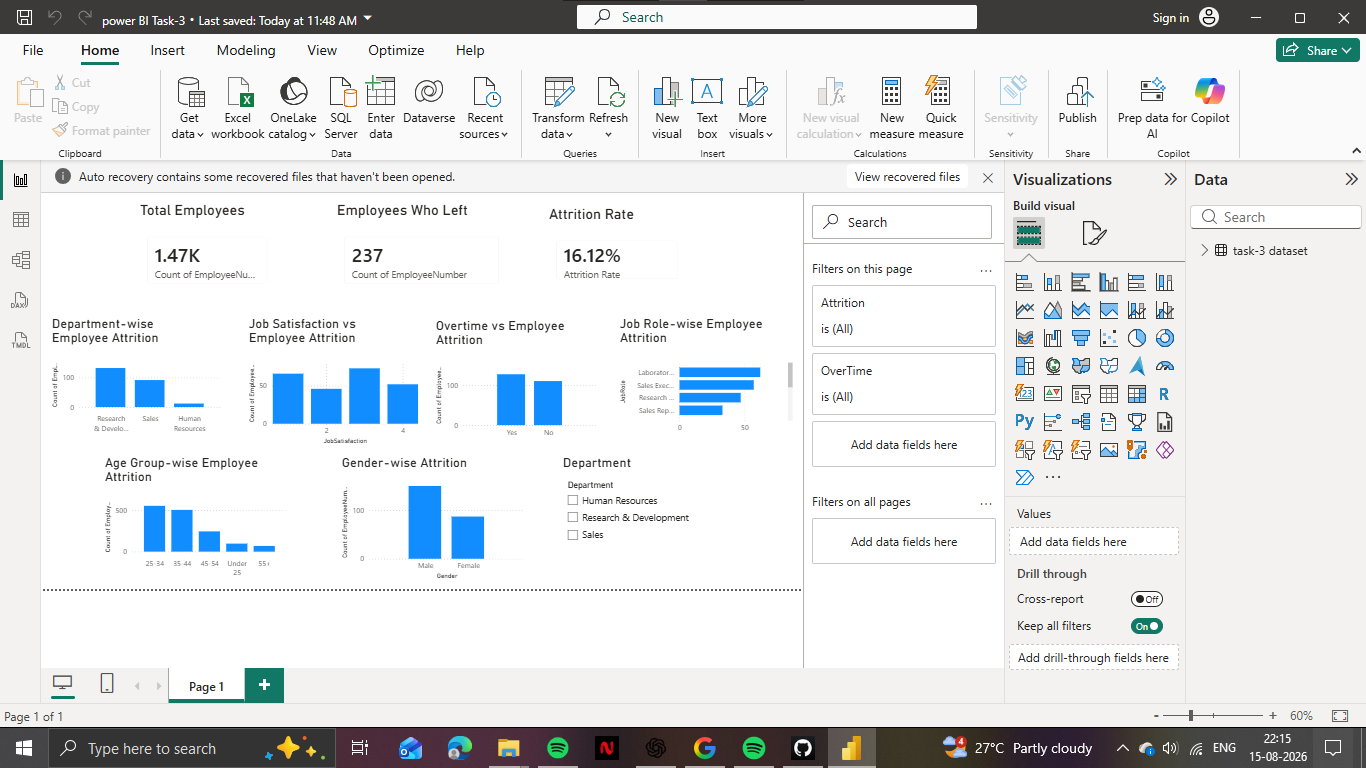

The dashboard page shown, as its layout file describes it:
{"tool":"powerbi","page":{"name":"Page 1","canvas":[1280,720],"ordinal":0},"visuals":[{"type":"cardVisual","title":"Total Employees","fields":{"Data":["CountNonNull(task-3 dataset.EmployeeNumber)"]},"box":[162,70,236,154],"z":0},{"type":"cardVisual","title":"Employees Who Left","fields":{"Data":["CountNonNull(task-3 dataset.EmployeeNumber)"]},"box":[492,70,294,154],"z":1000},{"type":"cardVisual","title":"Attrition Rate","fields":{"Data":["task-3 dataset.Attrition Rate"]},"box":[848,78,238,140],"z":2000},{"type":"clusteredColumnChart","title":"Department-wise Employee Attrition","fields":{"Category":["task-3 dataset.Department"],"Y":["CountNonNull(task-3 dataset.EmployeeNumber)"]},"box":[14,262,294,204],"z":3000},{"type":"clusteredBarChart","title":"Job Role-wise Employee Attrition","fields":{"Category":["task-3 dataset.JobRole"],"Y":["CountNonNull(task-3 dataset.EmployeeNumber)"]},"box":[968,262,300,205],"z":4000},{"type":"clusteredColumnChart","title":"Overtime vs Employee Attrition","fields":{"Category":["task-3 dataset.OverTime"],"Y":["CountNonNull(task-3 dataset.EmployeeNumber)"]},"box":[658,266,280,210],"z":5000},{"type":"clusteredColumnChart","title":"Job Satisfaction vs Employee Attrition","fields":{"Category":["task-3 dataset.JobSatisfaction"],"Y":["CountNonNull(task-3 dataset.EmployeeNumber)"]},"box":[344,262,294,220],"z":6000},{"type":"clusteredColumnChart","title":"Age Group-wise Employee Attrition","fields":{"Category":["task-3 dataset.Age Group"],"Y":["CountNonNull(task-3 dataset.EmployeeNumber)"]},"box":[102.2,495.6,315,213.3],"z":7000},{"type":"clusteredColumnChart","title":"Gender-wise Attrition","fields":{"Category":["task-3 dataset.Gender"],"Y":["CountNonNull(task-3 dataset.EmployeeNumber)"]},"box":[500,496,316.7,213.3],"z":8000},{"type":"slicer","title":"Department","fields":{"Values":["task-3 dataset.Department"]},"box":[872,496,290,213.3],"z":9000},{"type":"textbox","box":[296.7,0,905,55],"z":10000}]}

Visuals, with their boxes on the page's 1280x720 design canvas (x1, y1, x2, y2). These are canvas units, not pixel positions in the 1366x768 screenshot, which may show the page scaled, cropped or inside an application window:
"Total Employees" cardVisual: bbox(162, 70, 398, 224)
"Employees Who Left" cardVisual: bbox(492, 70, 786, 224)
"Attrition Rate" cardVisual: bbox(848, 78, 1086, 218)
"Department-wise Employee Attrition" clusteredColumnChart: bbox(14, 262, 308, 466)
"Job Role-wise Employee Attrition" clusteredBarChart: bbox(968, 262, 1268, 467)
"Overtime vs Employee Attrition" clusteredColumnChart: bbox(658, 266, 938, 476)
"Job Satisfaction vs Employee Attrition" clusteredColumnChart: bbox(344, 262, 638, 482)
"Age Group-wise Employee Attrition" clusteredColumnChart: bbox(102, 496, 417, 709)
"Gender-wise Attrition" clusteredColumnChart: bbox(500, 496, 817, 709)
"Department" slicer: bbox(872, 496, 1162, 709)
textbox: bbox(297, 0, 1202, 55)
